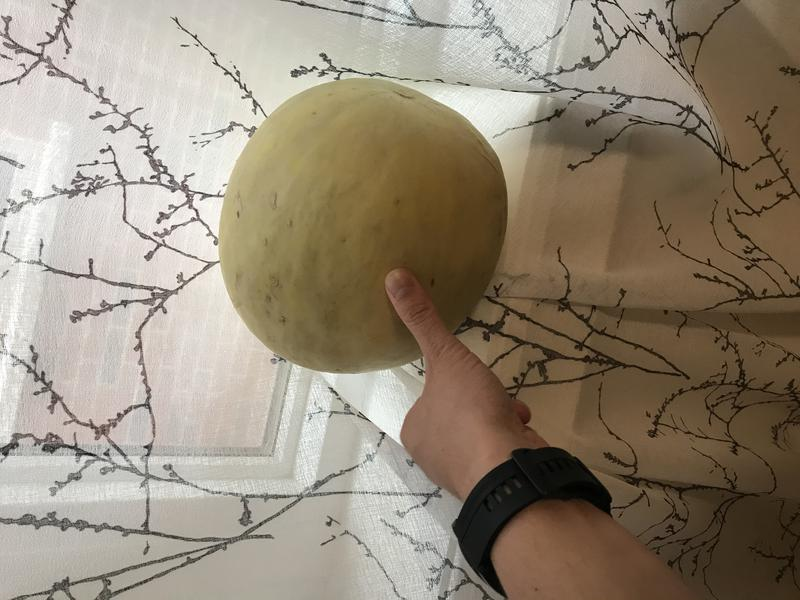honeydew: (213, 70, 524, 382)
